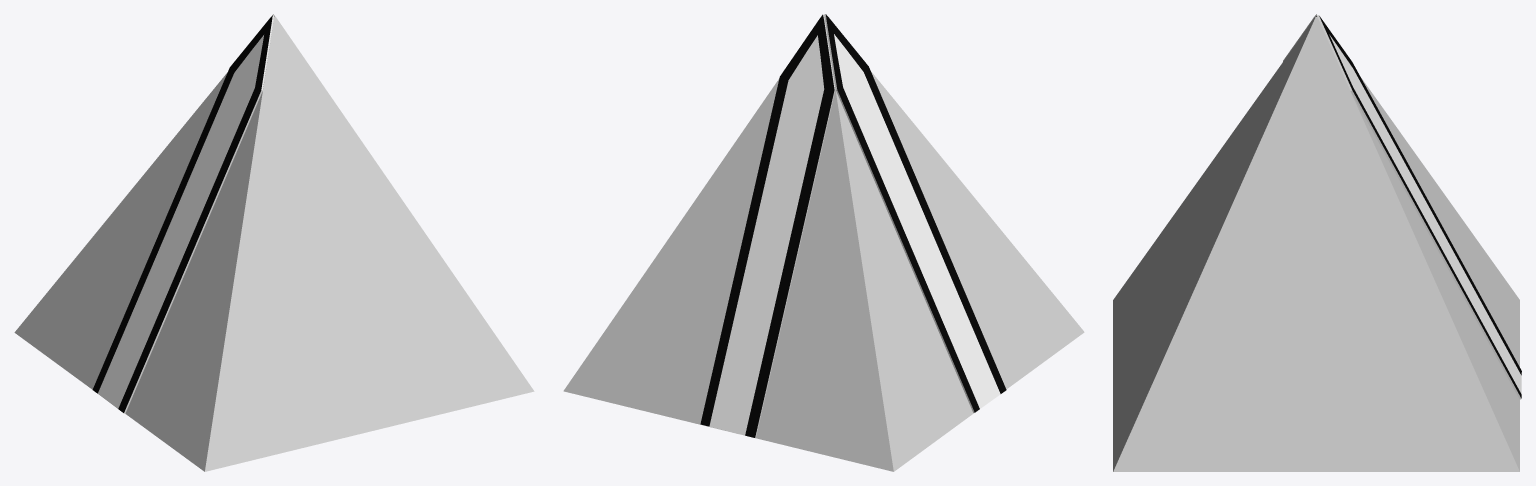
The model's file is Pyramid_Stripes.fbx.
3 renders of one model, left to right at view 1: azimuth 30°, elevation 25°; view 2: azimuth 150°, elevation 25°; view 3: azimuth 270°, elevation 25°, orthographic. The views are drawn at different scales.
Parts seen in each view (by area): view 1: Pyramid, Stripes_Pyramid; view 2: Pyramid, Stripes_Pyramid; view 3: Pyramid, Stripes_Pyramid.
Part boxes in pixels (bbox=[...]): Pyramid: bbox=[14, 16, 534, 471]; Stripes_Pyramid: bbox=[92, 14, 274, 413]; Pyramid: bbox=[563, 15, 1084, 471]; Stripes_Pyramid: bbox=[700, 14, 1006, 438]; Pyramid: bbox=[1113, 16, 1519, 471]; Stripes_Pyramid: bbox=[1283, 14, 1521, 399].
Size of the model in its own units: 1 by 1.01 by 1.
1 material, 1 textured.
